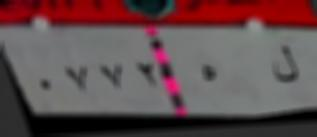0: (38, 72, 54, 95)
2: (136, 55, 160, 92)
7: (101, 59, 125, 92), (66, 63, 89, 94)
haa: (192, 58, 222, 91)
laam: (265, 40, 301, 86)
